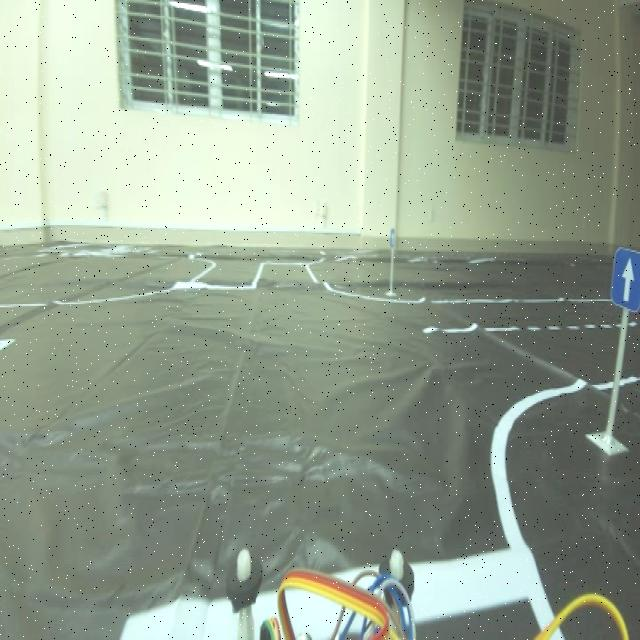onewayroad: (614, 250, 638, 308), (386, 220, 402, 255)
